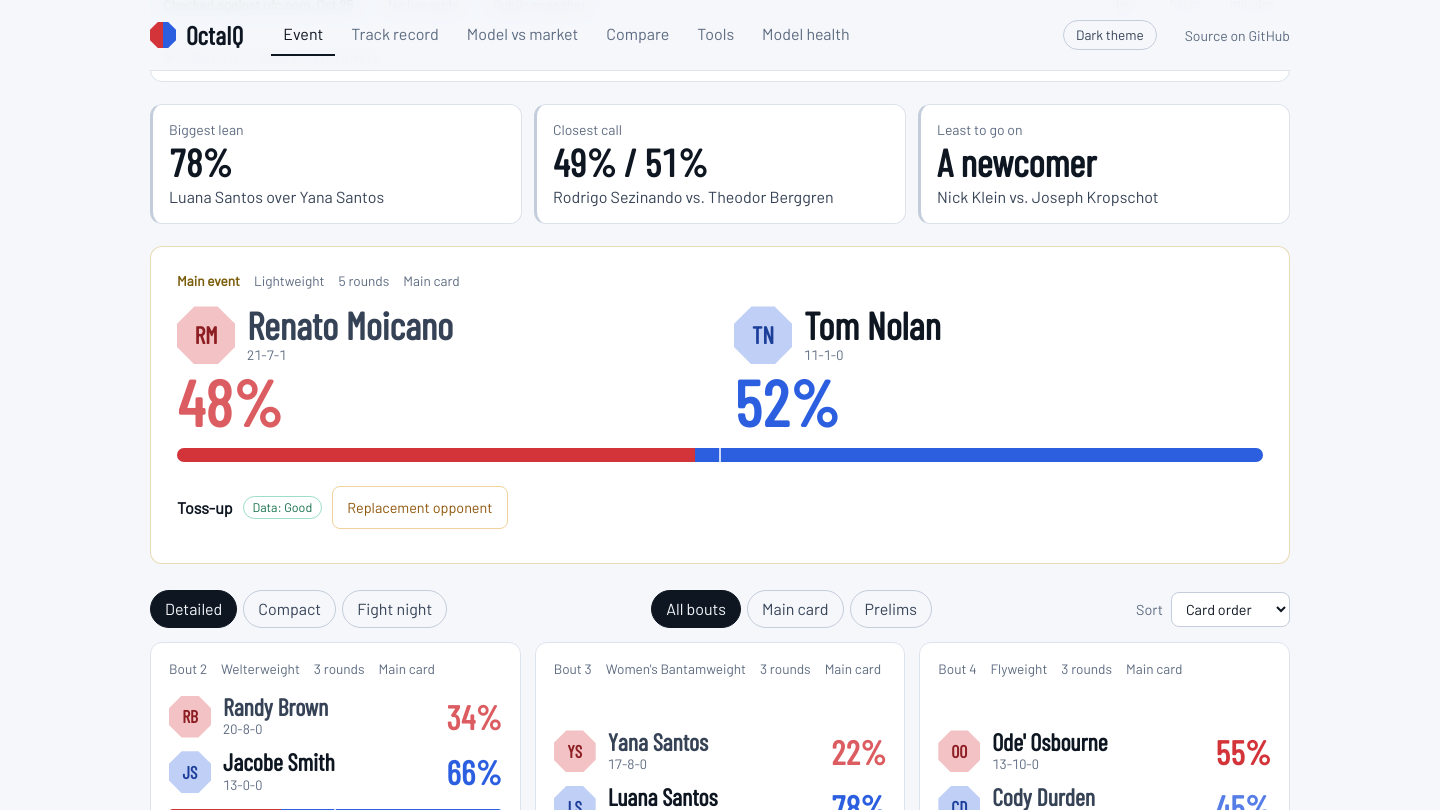
Test: bout detail › opens from a click, reflects the bout in the URL and closes with Escape
(page scrolled)
Click the button named "Renato Moicano versus Tom Nolan" at (720, 545), box [150,246,1290,564]
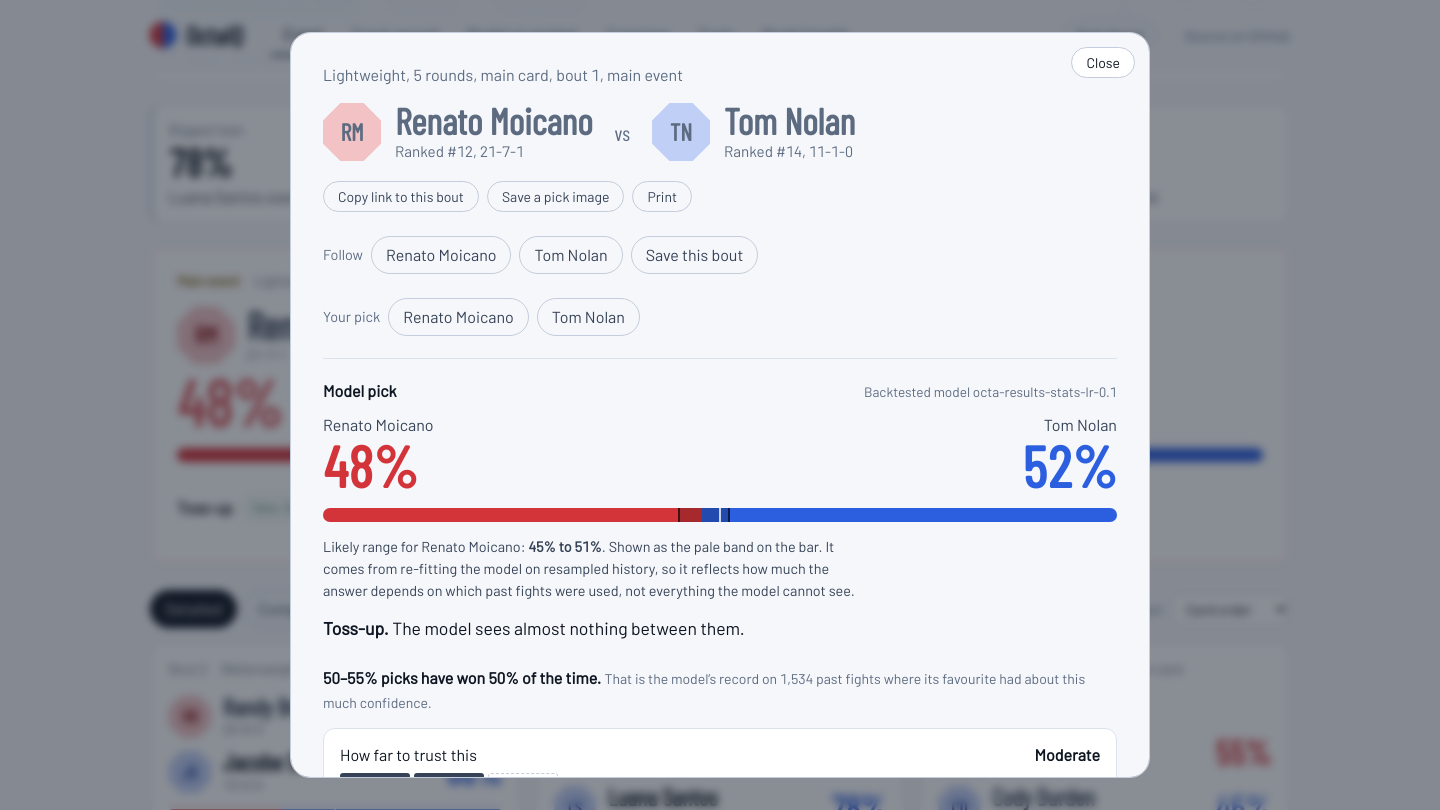
Result: the text "How far to trust this" is shown at [340,743,477,767]
Press Escape
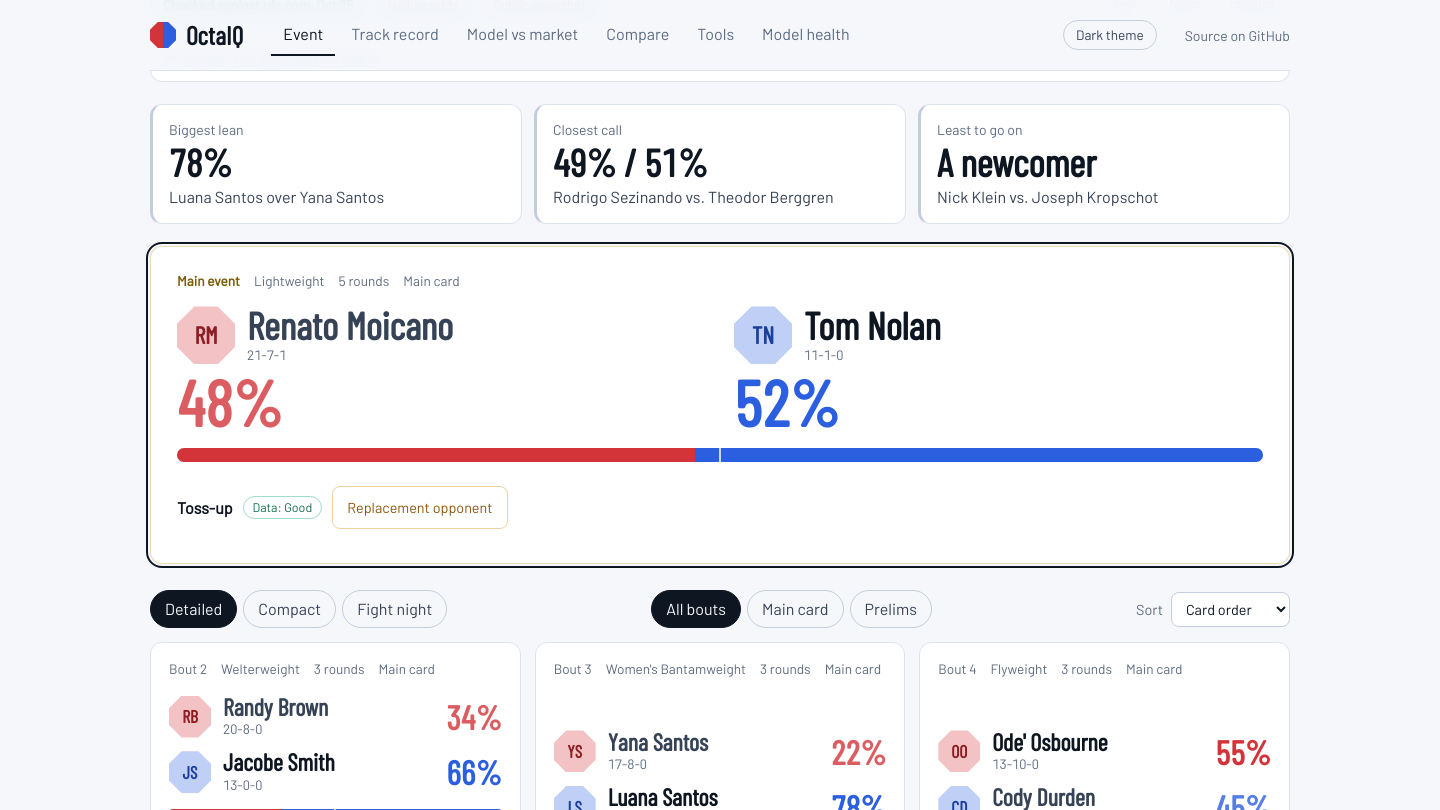
Result: the dialog is gone
